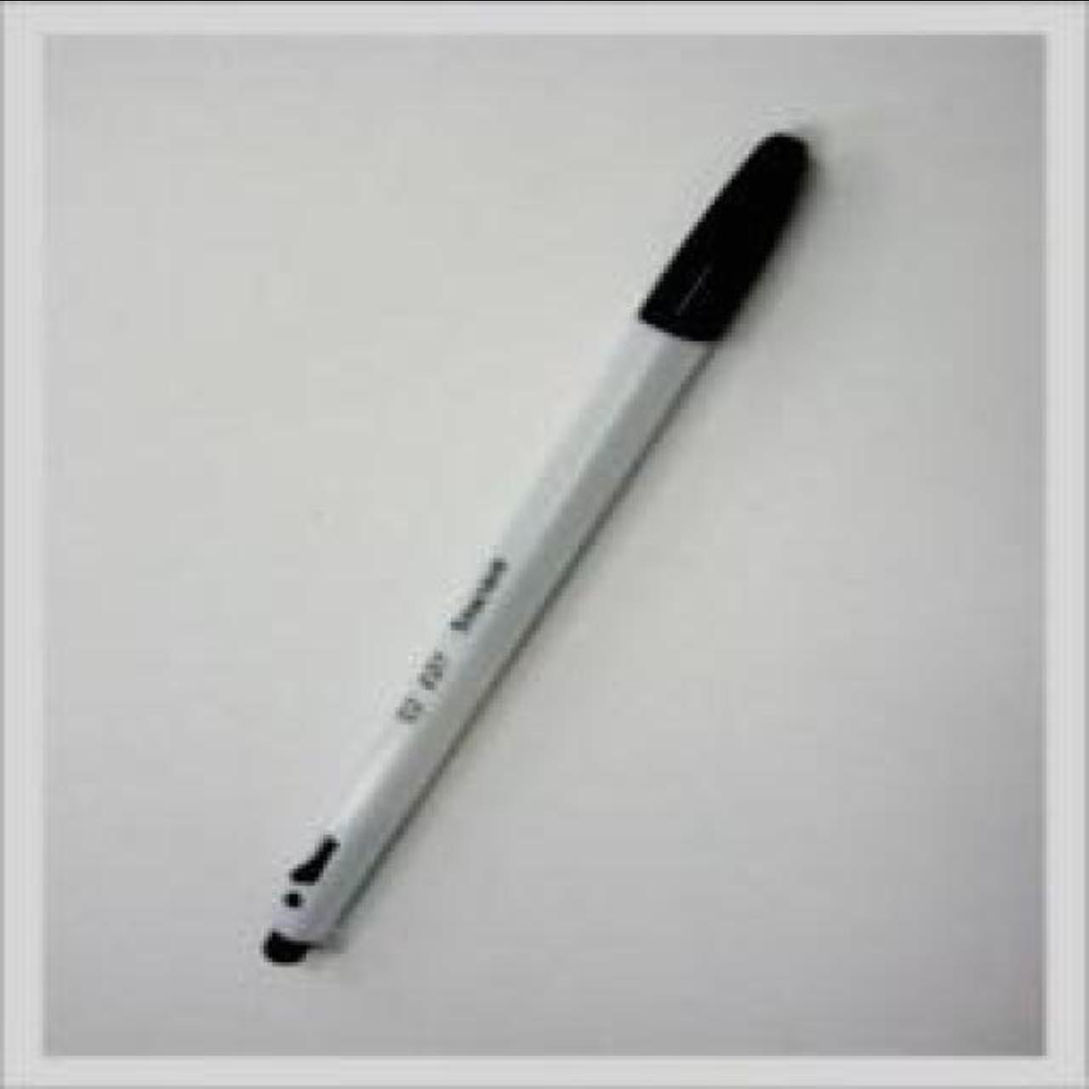pen: (260, 123, 822, 978)
